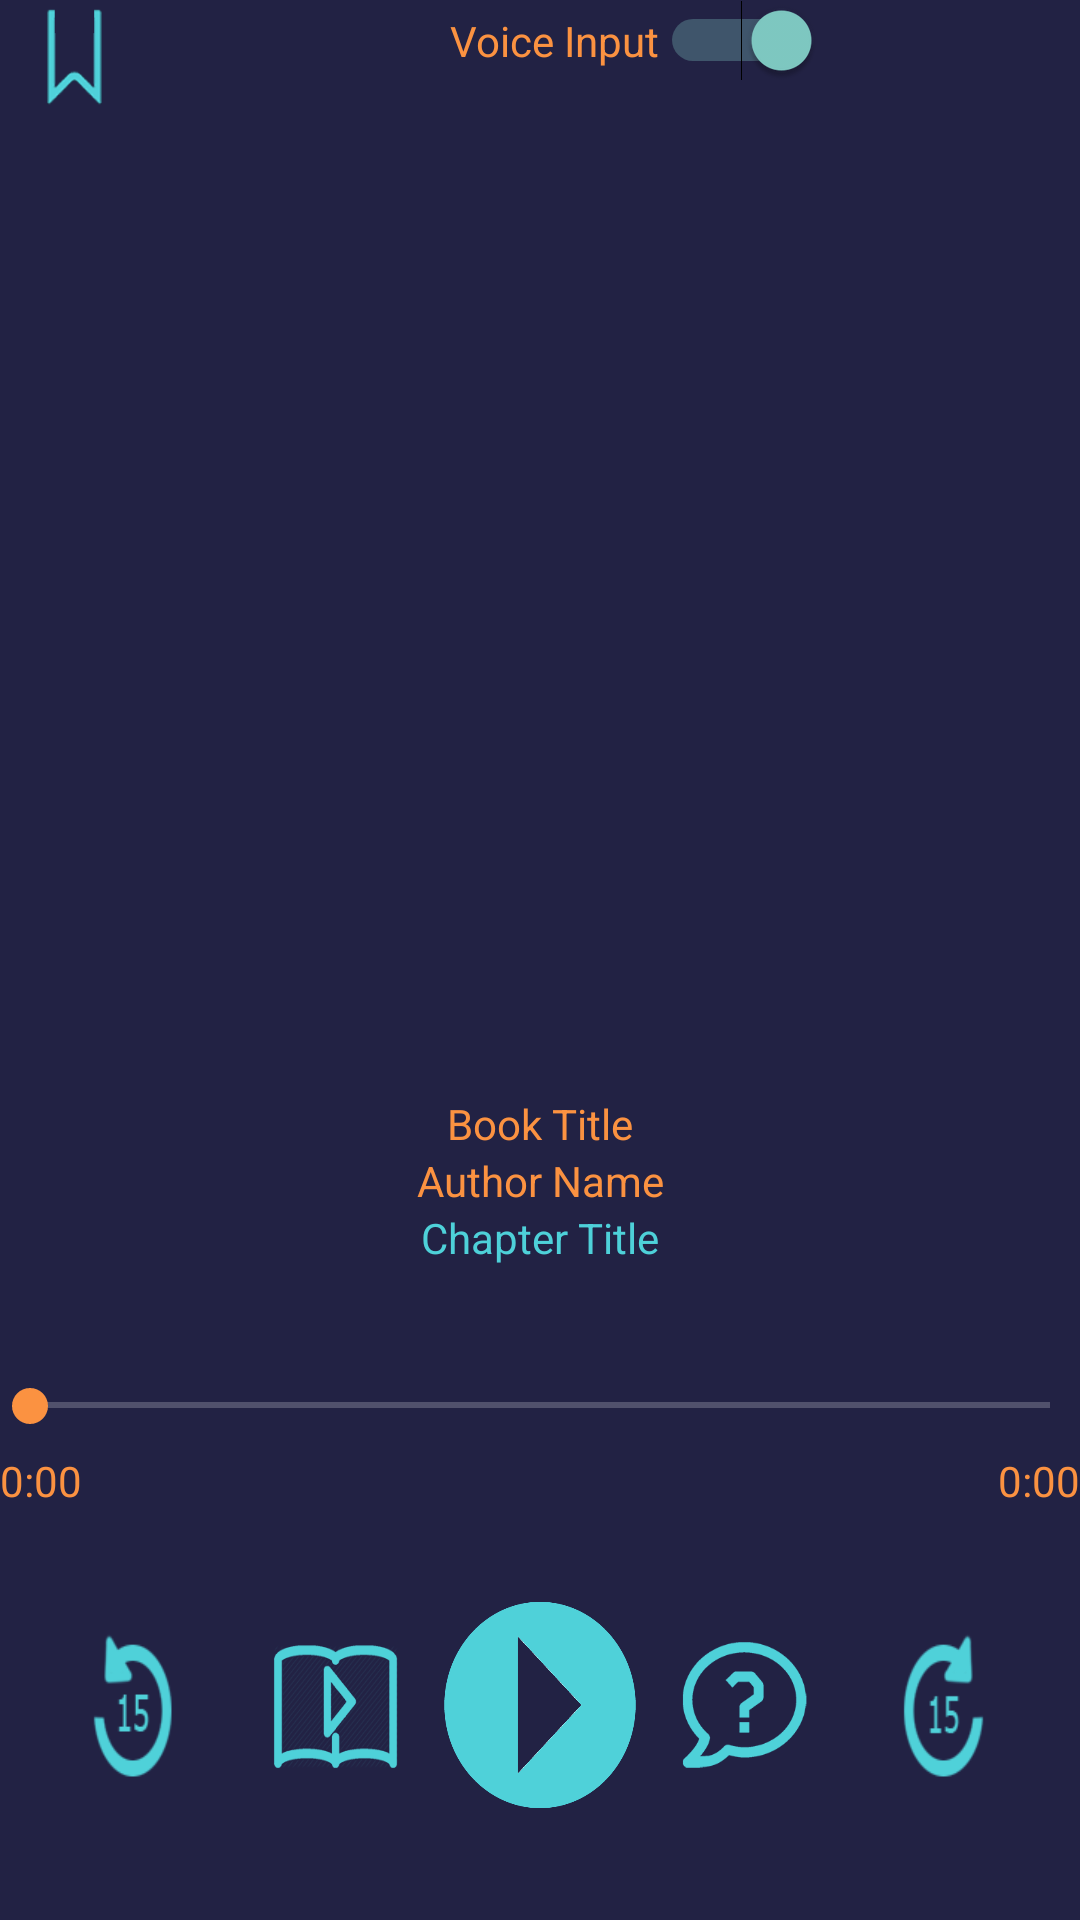

Icons on this 1080 × 1920 Android screen, each with the point to tap as point (x, y):
Bookmark: point (74, 56)
Forward: point (943, 1706)
Play: point (540, 1705)
Play Question: point (745, 1705)
Play Story: point (335, 1706)
Rewind: point (133, 1706)
